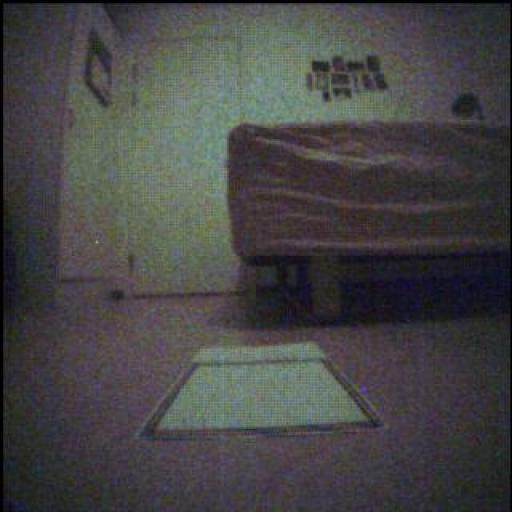pad: (141, 343, 384, 441)
